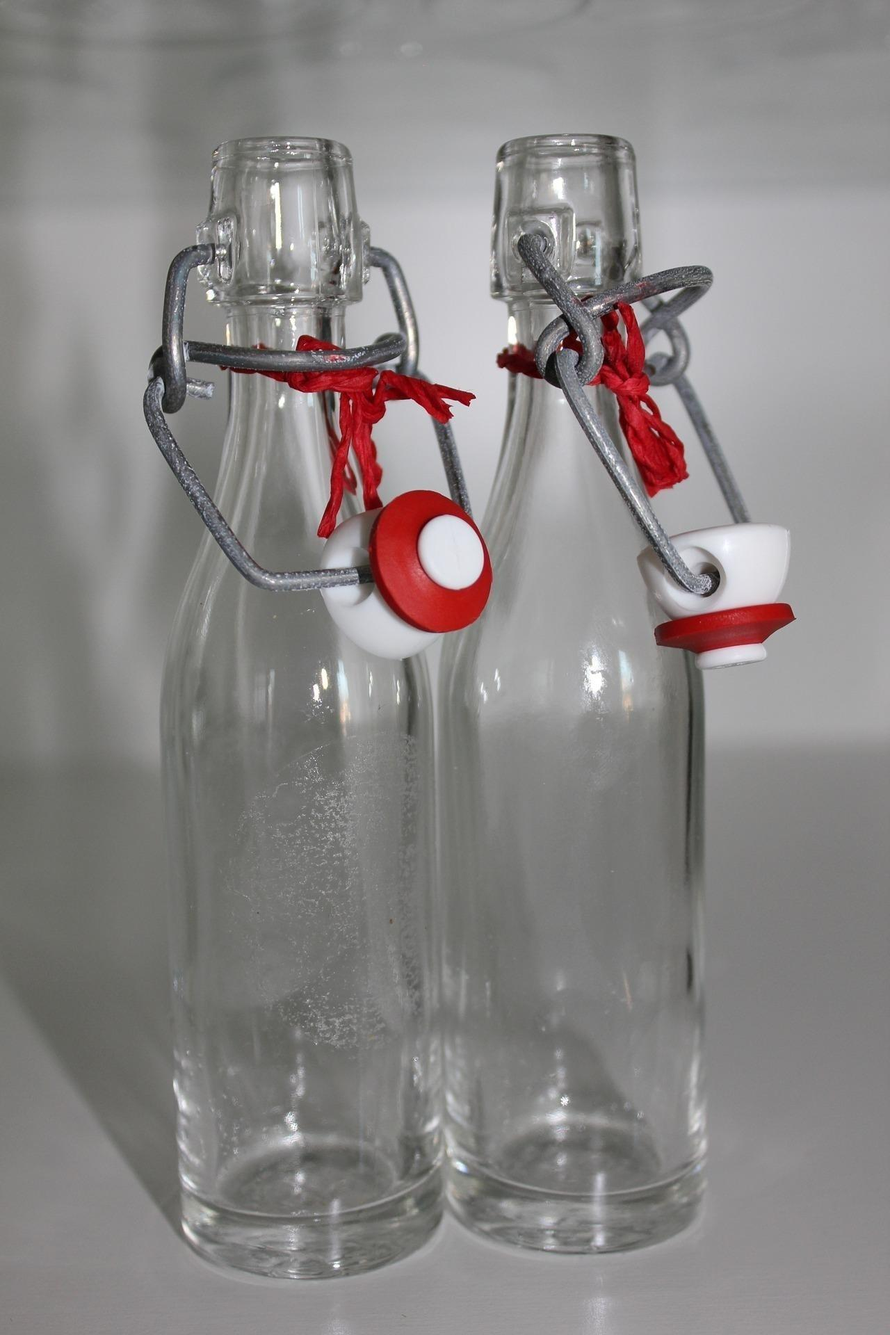bottle-glass: (133, 122, 456, 1303), (426, 115, 715, 1261)
